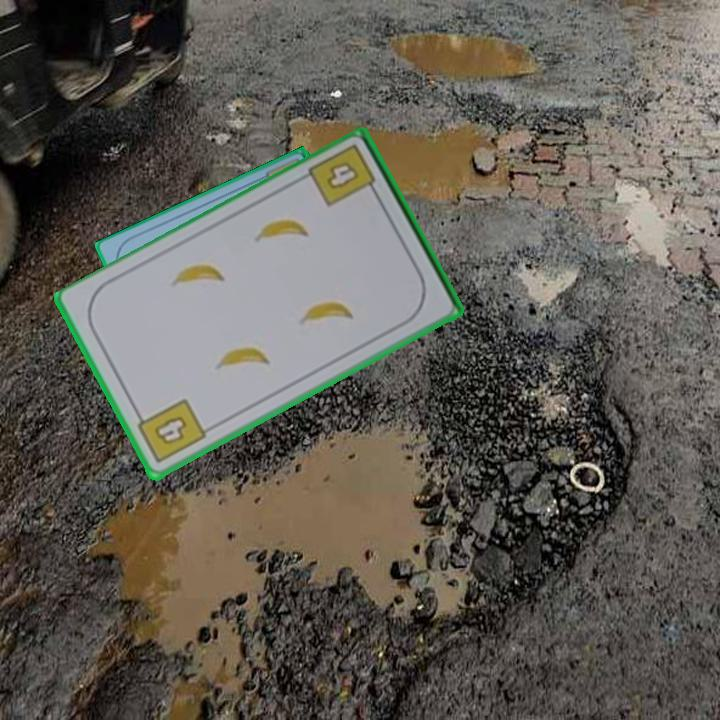4b: (131, 395, 209, 467), (305, 140, 382, 208)
